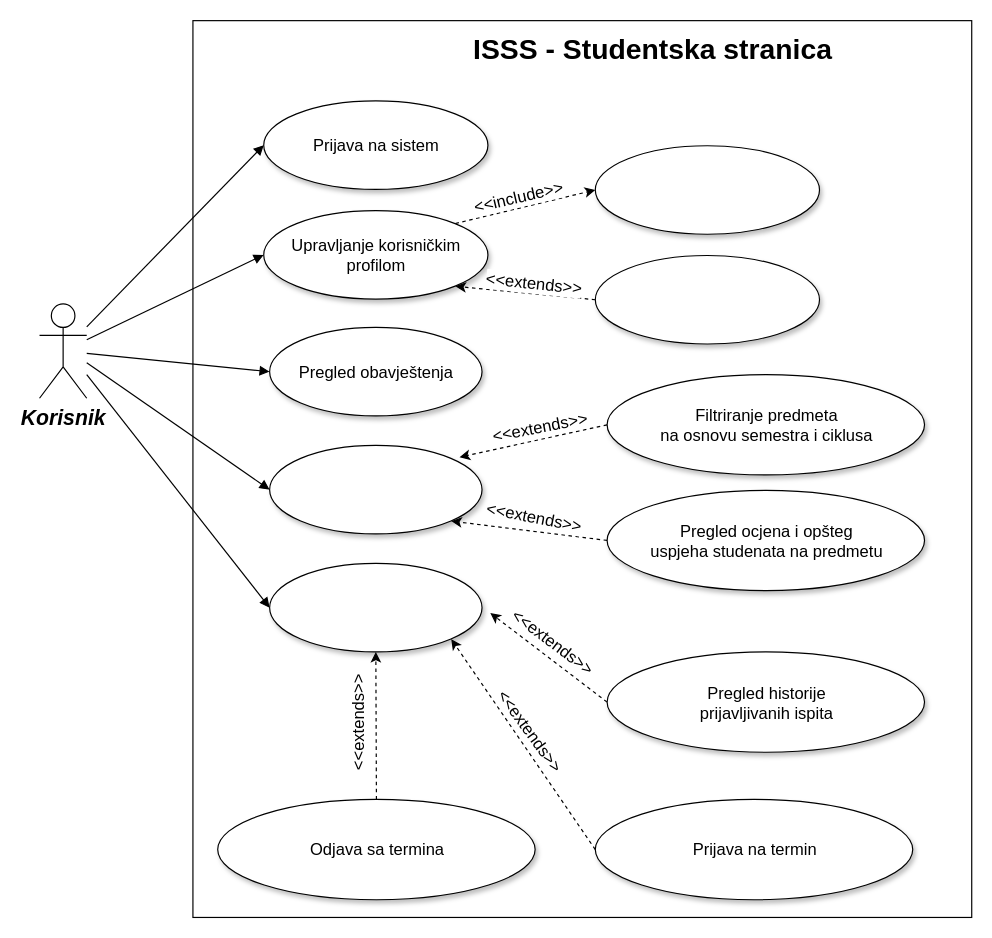
Image size: 992x938. Some labels were removed from this diagram. The centre of each missing label's shape, as x and y in pixels:
Pregled informacija iz studentske službe: point (708, 191)
Pregled predmeta: point (376, 491)
Pregled termina ispita: point (376, 609)
Promjena pristupne šifre: point (708, 301)
